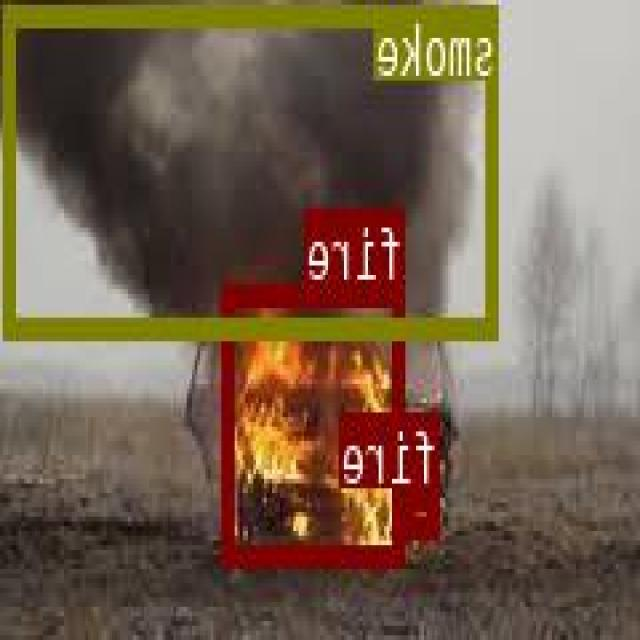fire: (225, 281, 406, 561), (406, 484, 440, 534)
smoke: (8, 3, 501, 333)
